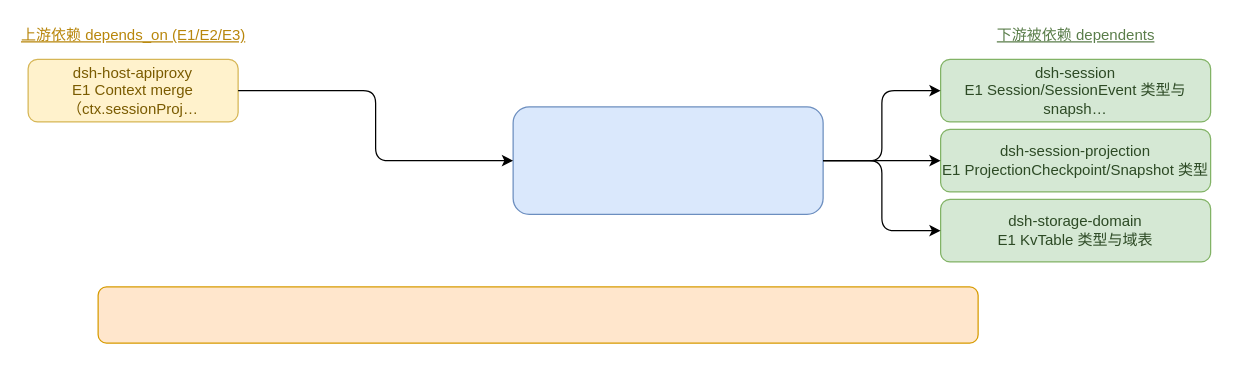
The diagram is 1233 pixels wide and 365 high, and some of its shapes have lost their labels. Here are the shapes that lost their labels. From the top down, the box of each, then its label:
(512, 106, 823, 214): dsh-session-projection-cache @deepseek-ai/dsh-session-projection-cache
(97, 286, 978, 343): provides 关键项 • ctx.sessionProjectionCache（SessionP…
